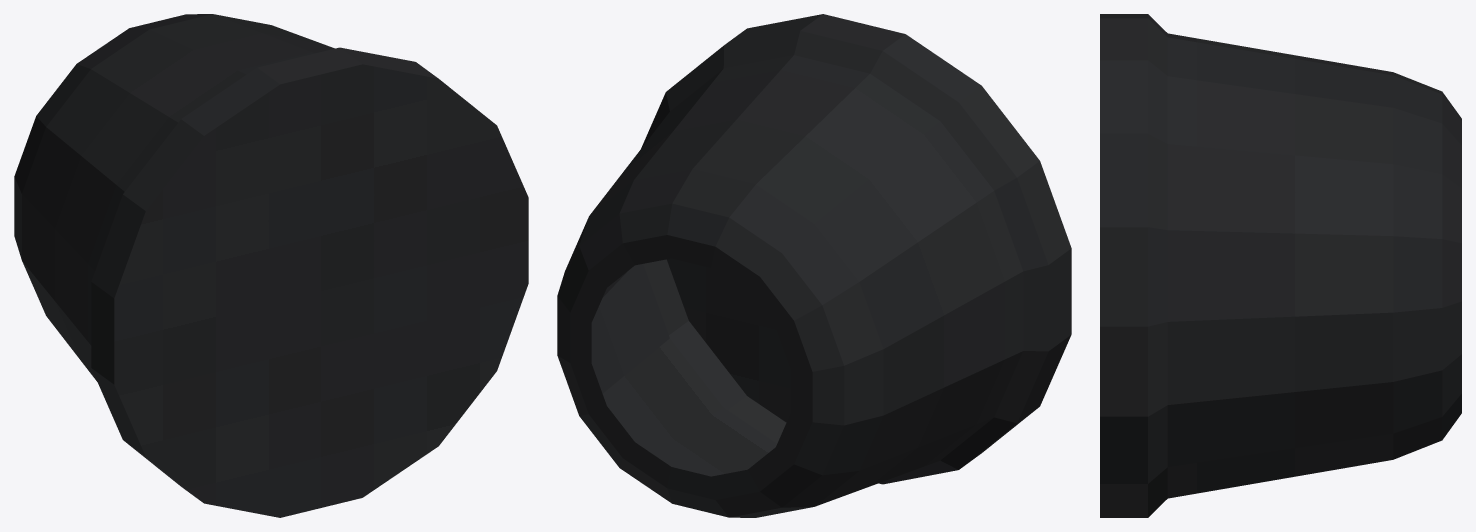
File: decopole_lahollywood_base_s.obj
3 views of the same model, side by side, from view 1: azimuth 30°, elevation 25°; view 2: azimuth 150°, elevation 25°; view 3: azimuth 270°, elevation 25° (orthographic). The views are drawn at different scales.
Visible parts, largest first — view 1: decopole_lahollywood_base_s; view 2: decopole_lahollywood_base_s; view 3: decopole_lahollywood_base_s.
Boxes of the visible parts, bbox=[...] form: decopole_lahollywood_base_s: bbox=[14, 14, 528, 517]; decopole_lahollywood_base_s: bbox=[557, 14, 1071, 517]; decopole_lahollywood_base_s: bbox=[1100, 14, 1461, 517].
Size of the model in its own units: 0.6375 by 0.6375 by 0.4612.
